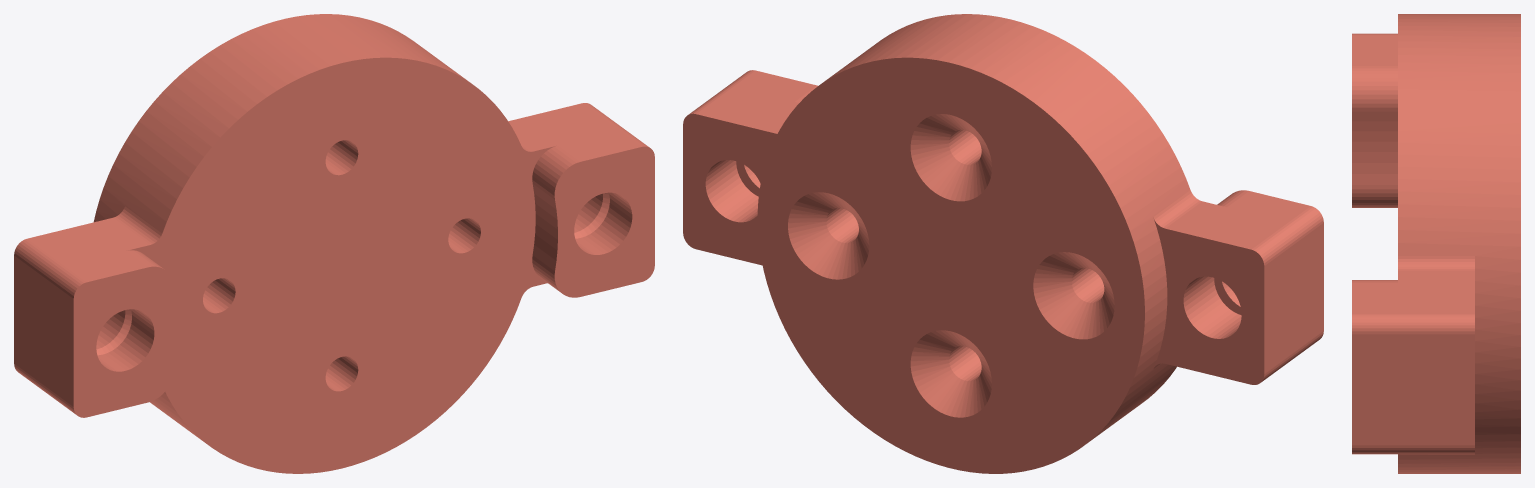
File: Motor Mount.glb
3 renders of one model, left to right at view 1: azimuth 30°, elevation 25°; view 2: azimuth 150°, elevation 25°; view 3: azimuth 270°, elevation 25°, orthographic. The views are drawn at different scales.
Visible parts, largest first — view 1: <STL_BINARY>; view 2: <STL_BINARY>; view 3: <STL_BINARY>.
Boxes of the visible parts, box(x1,y1,x2,y2) form: <STL_BINARY>: box(14, 14, 654, 473); <STL_BINARY>: box(683, 14, 1323, 473); <STL_BINARY>: box(1352, 14, 1520, 473).
Bounding box in the file's own units: 45 × 30 × 11.
